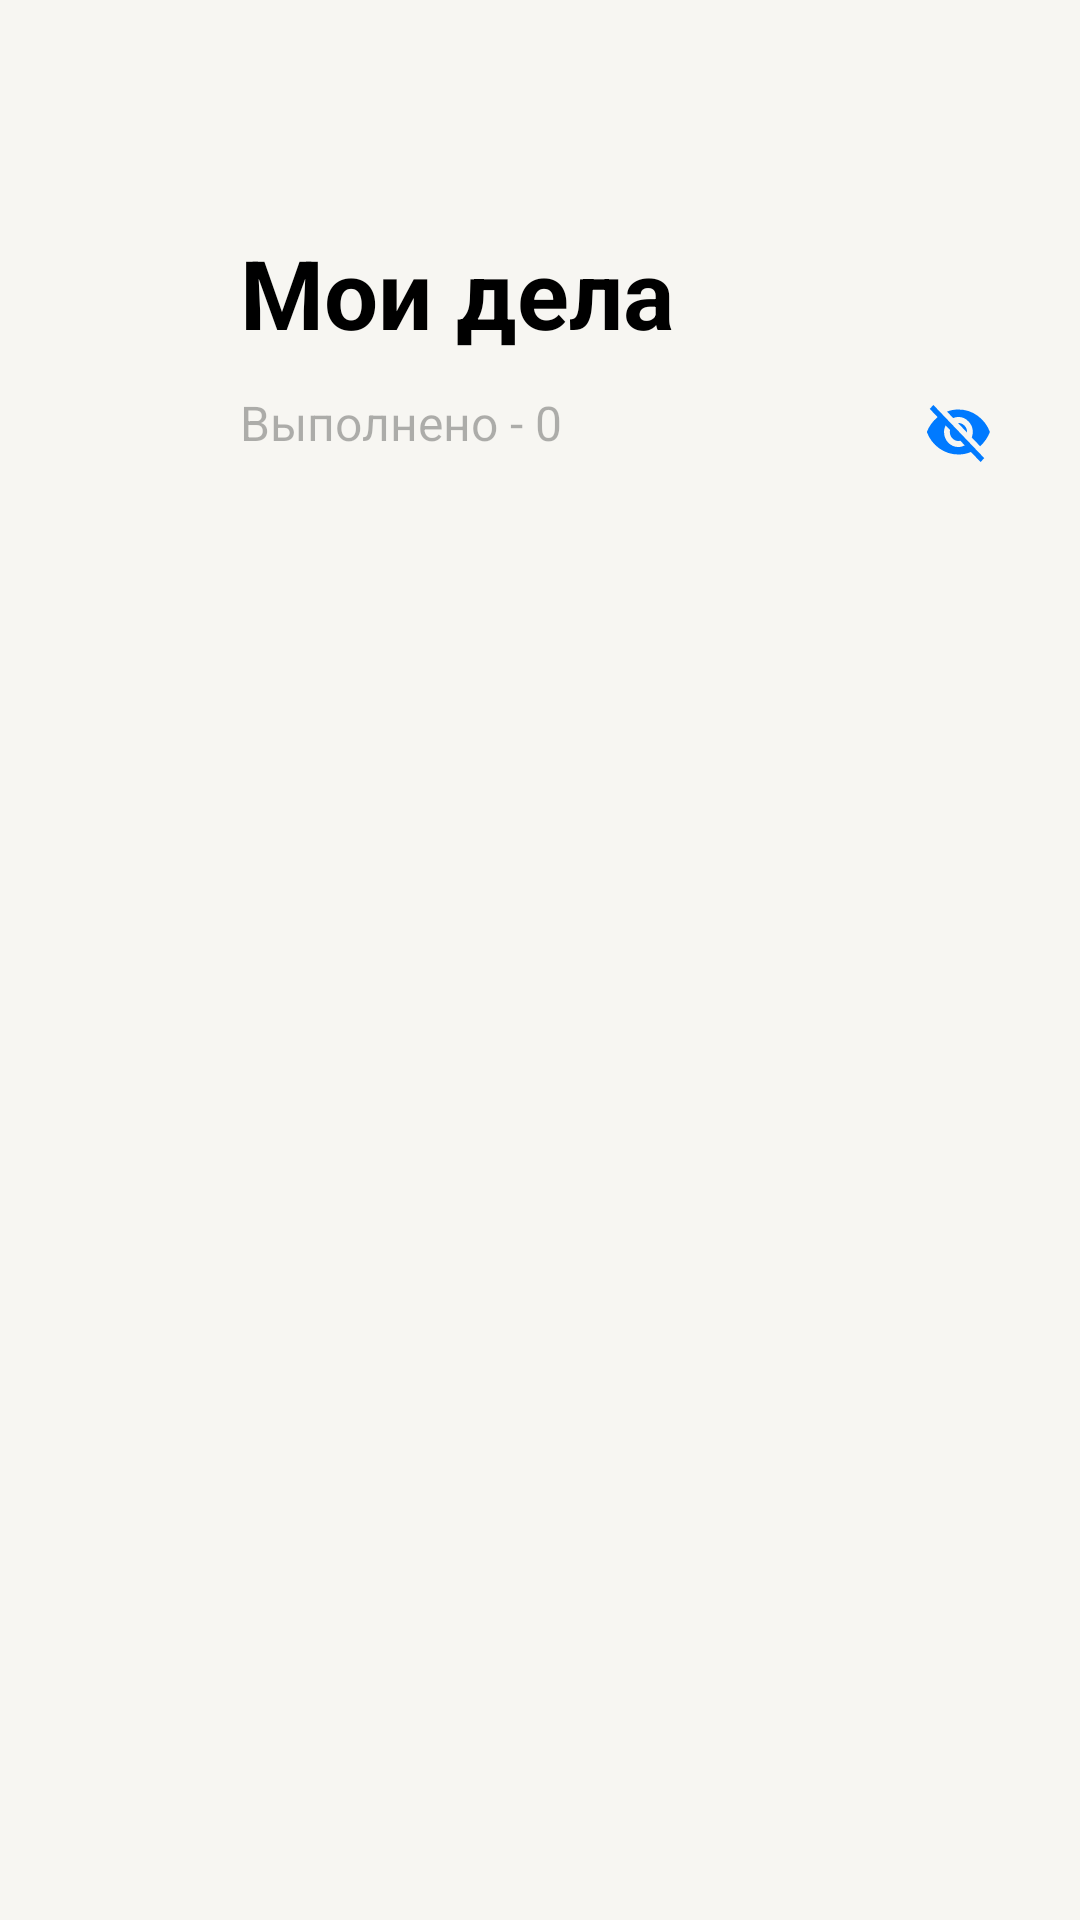

Named icons in this screenshot (1080px×1920px) and their centers, (x,y):
eye toggle: (958,433)
